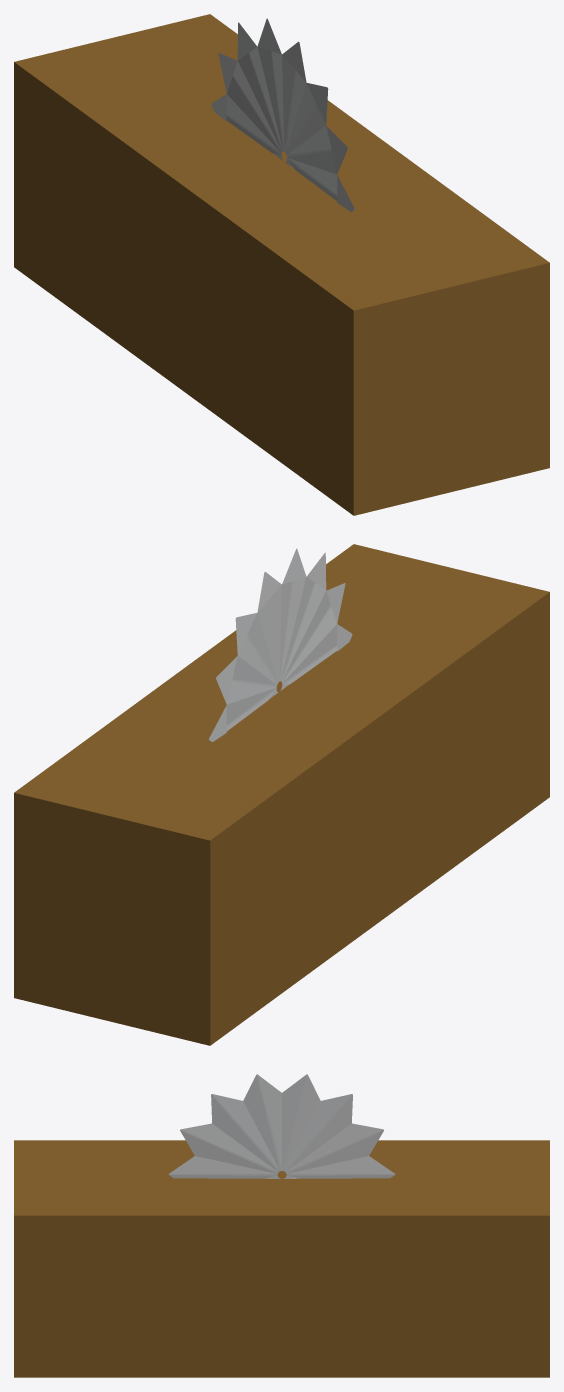
Rendered from sawmill.glb.
3 renders of one model, top to bottom at view 1: azimuth 30°, elevation 25°; view 2: azimuth 150°, elevation 25°; view 3: azimuth 270°, elevation 25°, orthographic. The views are drawn at different scales.
Parts seen in each view (by area): view 1: Cube, Circle; view 2: Cube, Circle; view 3: Cube, Circle.
Boxes of the visible parts, x1,y1,x2,y2 form: Cube: [14, 14, 549, 515]; Circle: [211, 18, 354, 211]; Cube: [14, 544, 549, 1045]; Circle: [209, 548, 352, 741]; Cube: [14, 1140, 549, 1377]; Circle: [169, 1074, 395, 1178].
Size of the model in its own units: 2 by 3.29 by 6.
